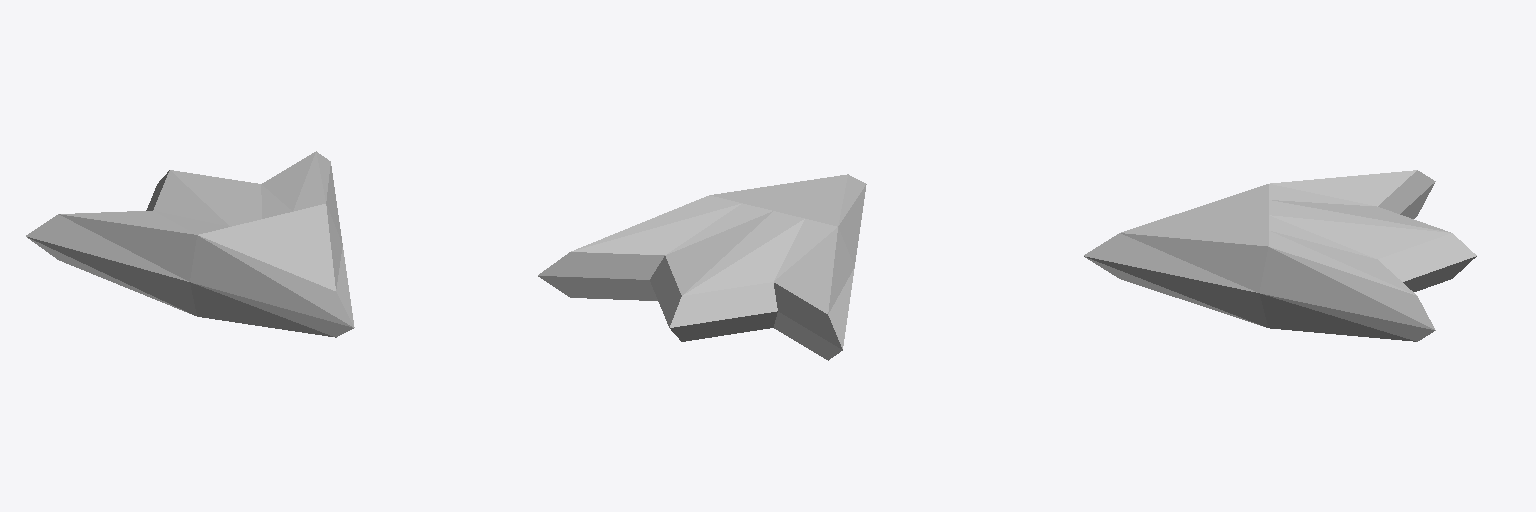
The model's file is ship.obj.
3 views of the same model, side by side, from view 1: azimuth 30°, elevation 25°; view 2: azimuth 150°, elevation 25°; view 3: azimuth 270°, elevation 25° (orthographic).
Parts seen in each view (by area): view 1: ship; view 2: ship; view 3: ship.
Part boxes in pixels (x1,y1,x2,y2): ship: (26,151,354,337); ship: (538,174,866,360); ship: (1084,170,1476,341).
Size of the model in its own units: 2 by 0.5109 by 2.23.